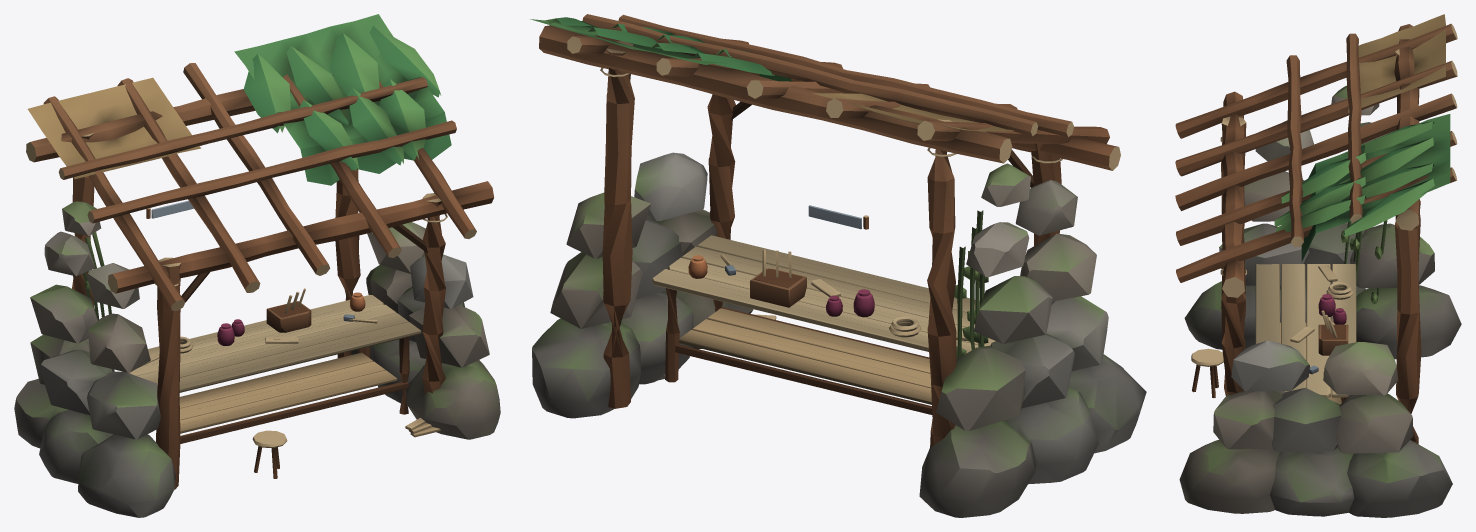
File: building-workshop.glb
3 renders of one model, left to right at view 1: azimuth 30°, elevation 25°; view 2: azimuth 150°, elevation 25°; view 3: azimuth 270°, elevation 25°, orthographic. The views are drawn at different scales.
Parts seen in each view (by area): view 1: 0_workshop; view 2: 0_workshop; view 3: 0_workshop.
Boxes of the visible parts, x1=… form: 0_workshop: x1=14, y1=14, x2=500, y2=517; 0_workshop: x1=530, y1=14, x2=1146, y2=517; 0_workshop: x1=1175, y1=14, x2=1461, y2=517.
Bounding box in the file's own units: 5.75 × 4.25 × 3.38.
